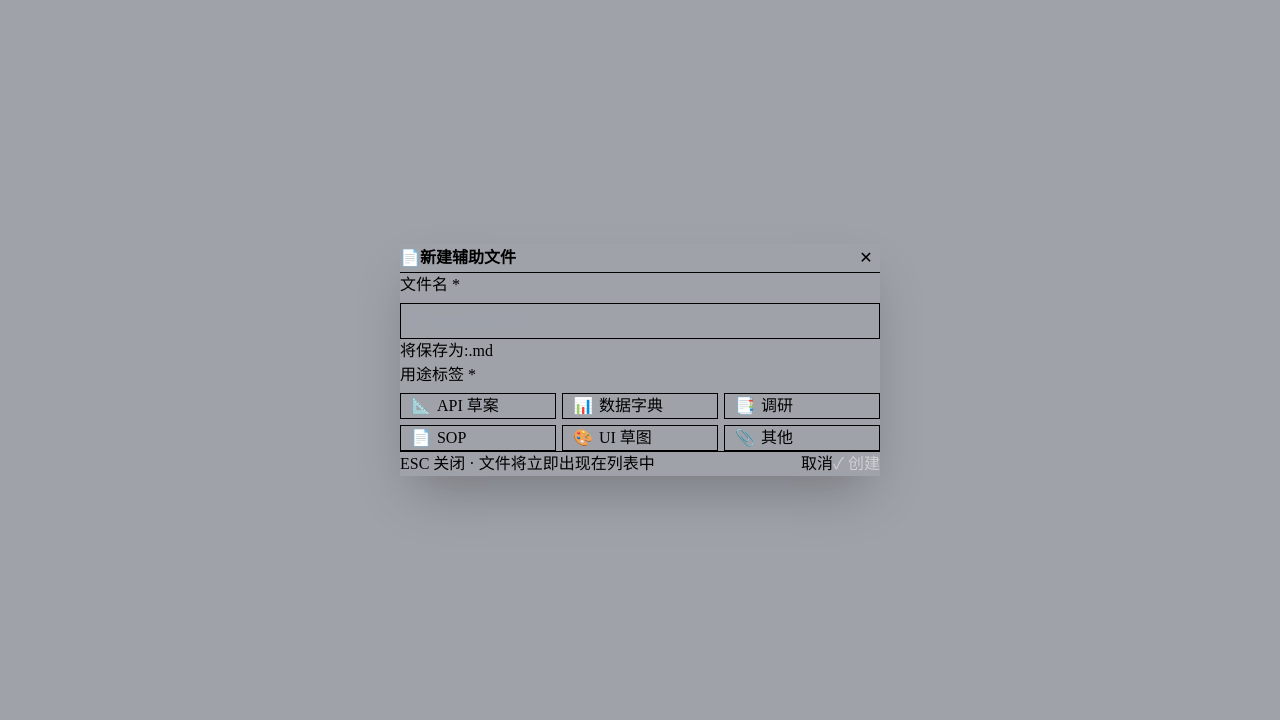
Test: NewAuxFileDialog · filename 自动补 .md › 输入已含 .md → 不重复补
Type "refund-api.md" into the field with test id "new-aux-dialog-filename" at (640, 321), box top-left (400, 303), bottom-right (880, 339)
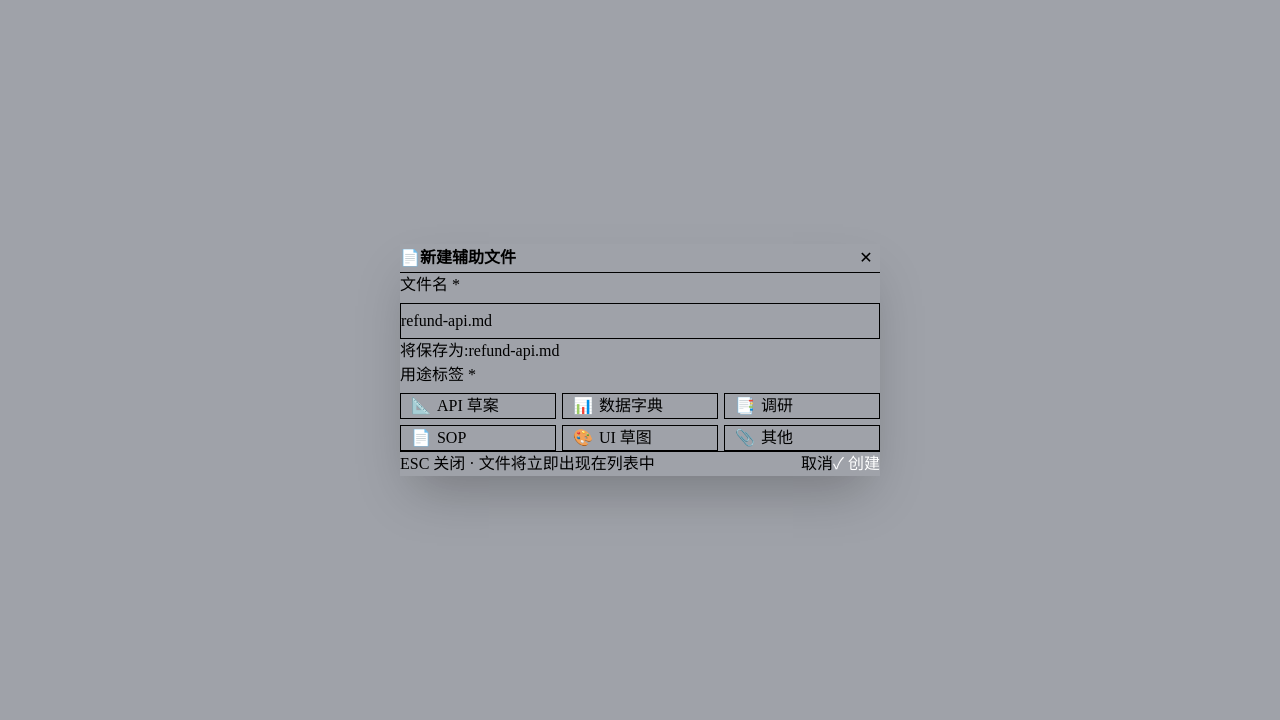
Check: the element with test id "new-aux-dialog-filename-preview" shows "refund-api.md", box top-left (468, 342), bottom-right (560, 359)
